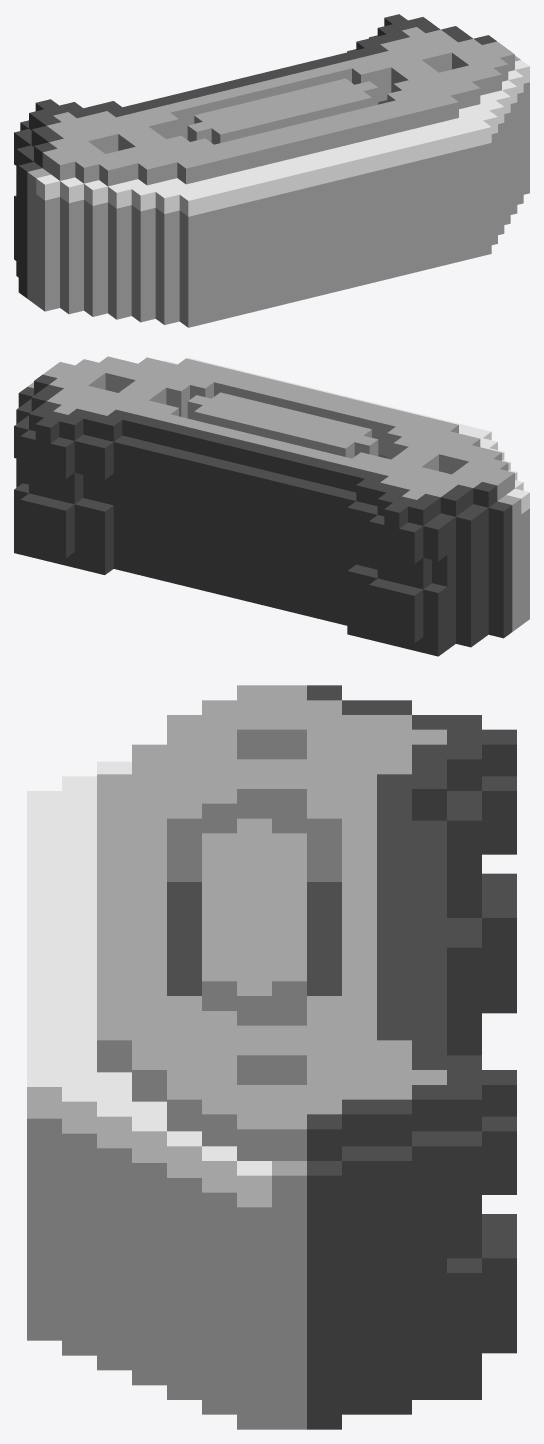
File: InfoConsoleS.obj
3 renders of one model, top to bottom at view 1: azimuth 30°, elevation 25°; view 2: azimuth 150°, elevation 25°; view 3: azimuth 270°, elevation 25°, orthographic. The views are drawn at different scales.
Bounding box in the file's own units: 32 × 9 × 14.
1 material, 1 textured.
